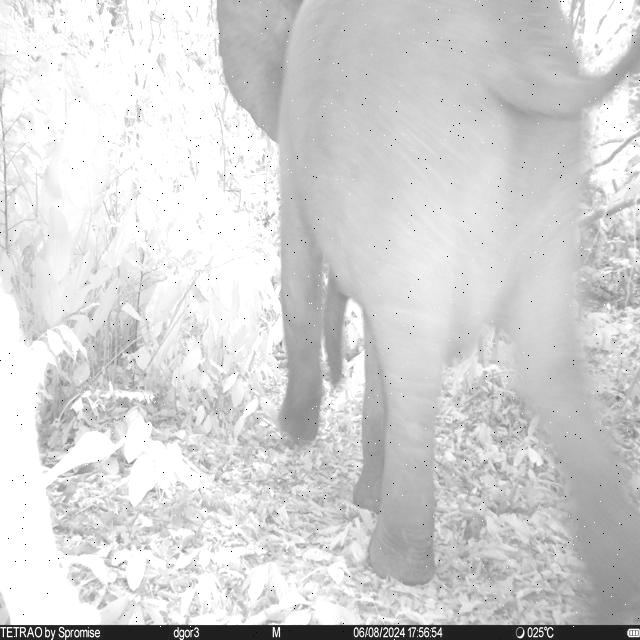ear: (215, 1, 302, 142)
elephant: (214, 0, 640, 613)
